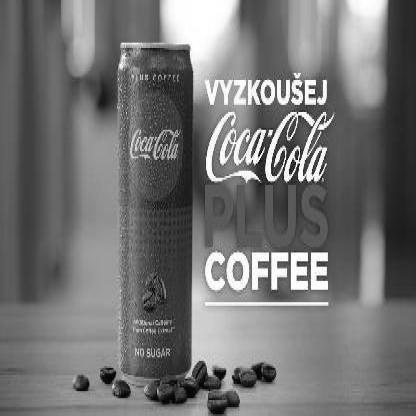alumunium_can: (115, 37, 196, 384)
